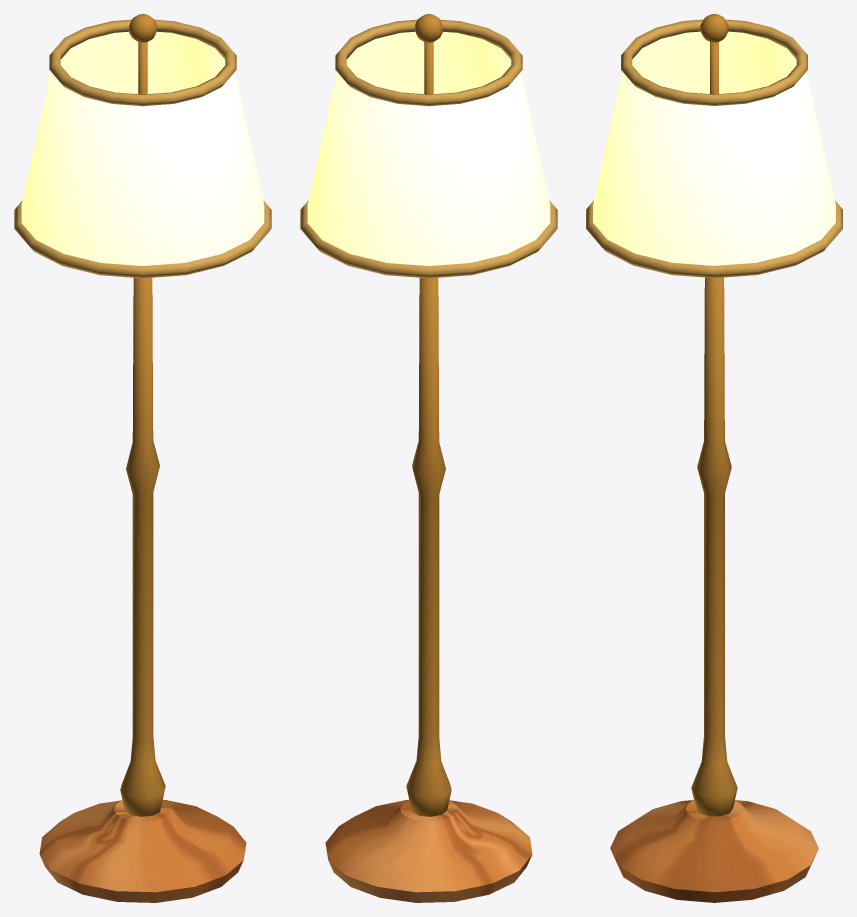
File: lamp.glb
3 views of the same model, side by side, from view 1: azimuth 30°, elevation 25°; view 2: azimuth 150°, elevation 25°; view 3: azimuth 270°, elevation 25° (orthographic).
Parts seen in each view (by area): view 1: model; view 2: model; view 3: model.
Boxes of the visible parts, left/top/right/bottom form: model: left=14, top=14, right=271, bottom=902; model: left=300, top=14, right=557, bottom=902; model: left=586, top=14, right=842, bottom=902.
Bounding box in the file's own units: 0.45 × 1.61 × 0.4432.
Materials: 5 (1 with a texture image).
